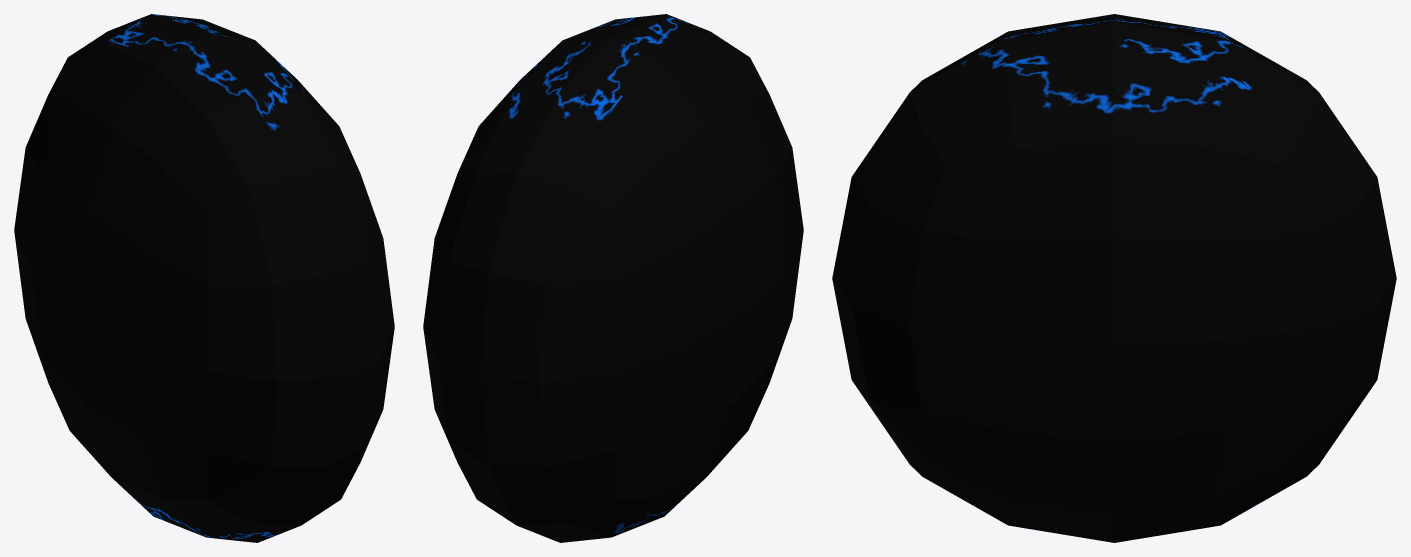
The model's file is roll.obj.
The picture shows the model from 3 angles, left to right: view 1: azimuth 30°, elevation 25°; view 2: azimuth 150°, elevation 25°; view 3: azimuth 270°, elevation 25°; orthographic projection. The views are drawn at different scales.
Visible parts, largest first — view 1: Cube; view 2: Cube; view 3: Cube.
Part boxes in pixels (box(x1,y1,x2,y2)): Cube: box(14, 14, 394, 542); Cube: box(423, 14, 803, 542); Cube: box(832, 14, 1396, 542).
Bounding box in the file's own units: 0.5547 × 1 × 1.
Materials: 1 (1 with a texture image).
